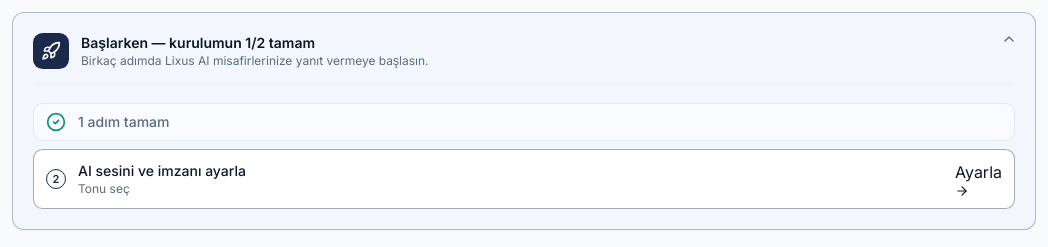
Test: OnboardingGuide katlama (UI) › katlanınca kart gider ama ŞERİT KALIR (kalıcı kayıp YOK)
The width and height of the screenshot is (1048, 247).
Check: the text "Başlarken — kurulumun 1/2 tamam" is shown, box [81,34,315,51]
Click the button named "Kurulum rehberini küçült": (1009, 39) [993,23,1025,55]
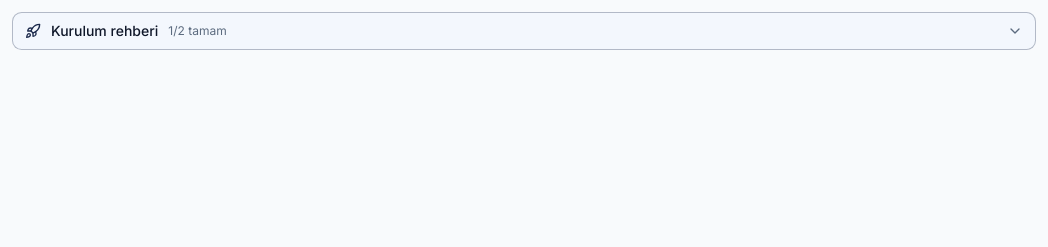
Check: the text "Başlarken" is gone
Check: the button "Kurulum rehberi 1/2 tamam" is shown, box [12,12,1036,50]
